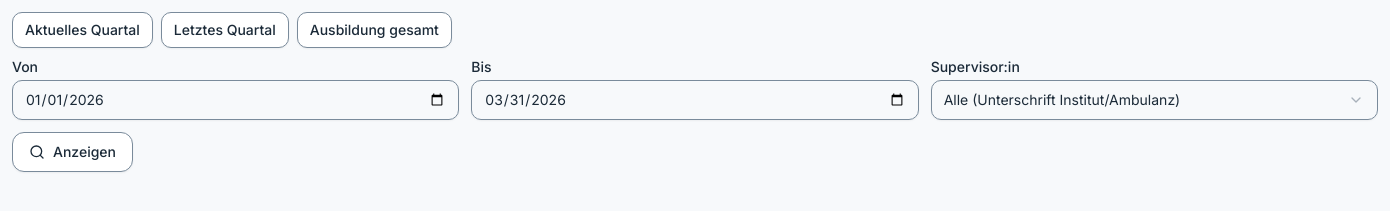
Test: NachweisFilterForm › lehnt „Von“ nach „Bis“ ab, ohne zu navigieren
Type "2026-04-01" into the date field labelled "Von" at (236, 100), box [12,80,459,120]
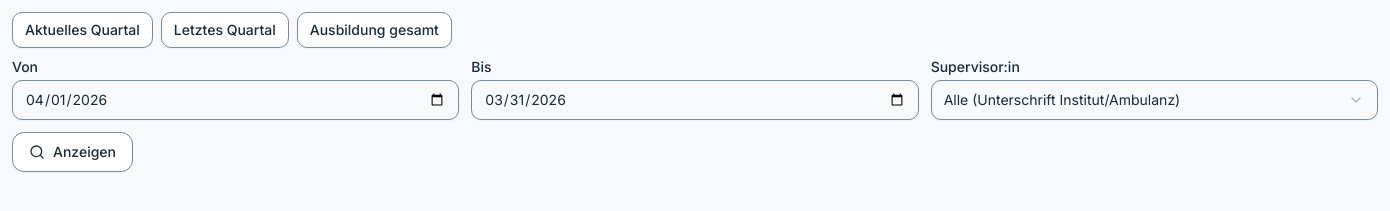
Click the button "Anzeigen" at (72, 152), box [12,132,133,172]
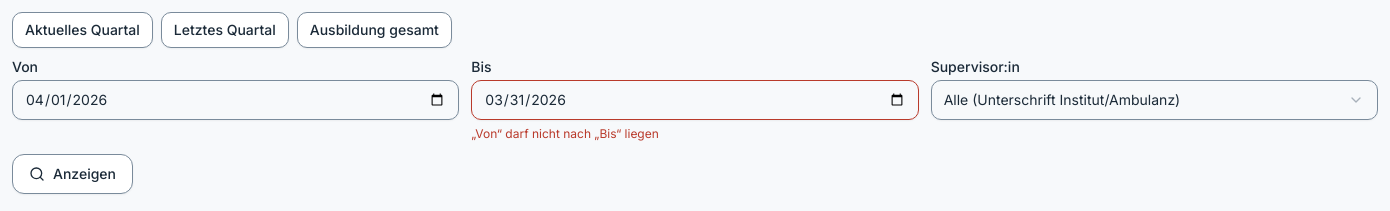
Now the text "„Von“ darf nicht nach „Bis“ liegen" is shown, box [471,126,659,141]
